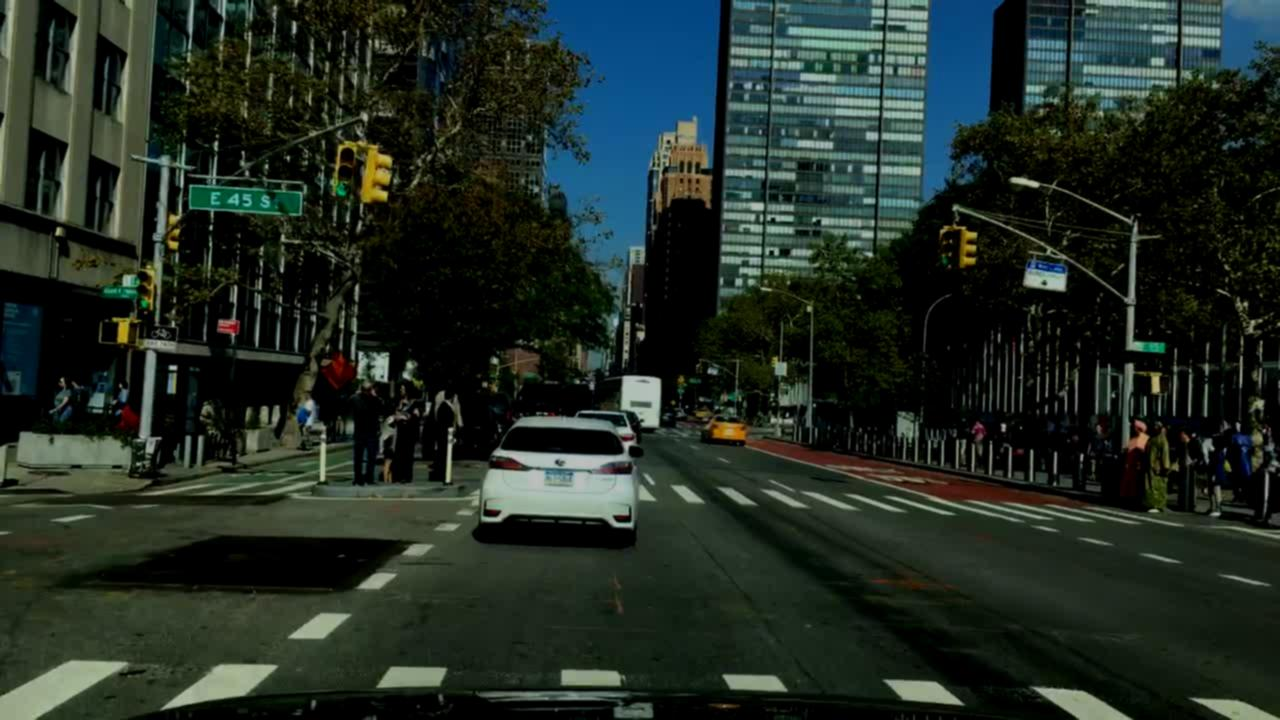bmw: (552, 456, 569, 472)
